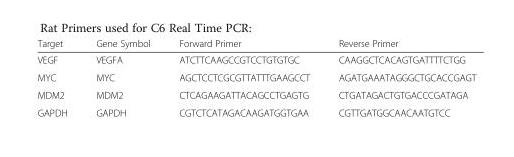table: (36, 37, 475, 118)
table column: (164, 37, 323, 118), (323, 37, 475, 118), (81, 37, 164, 118), (36, 37, 81, 118)
table column header: (36, 37, 475, 51)
table row: (36, 85, 475, 103), (36, 51, 475, 68), (36, 68, 475, 85), (36, 103, 475, 118), (36, 37, 475, 51)
